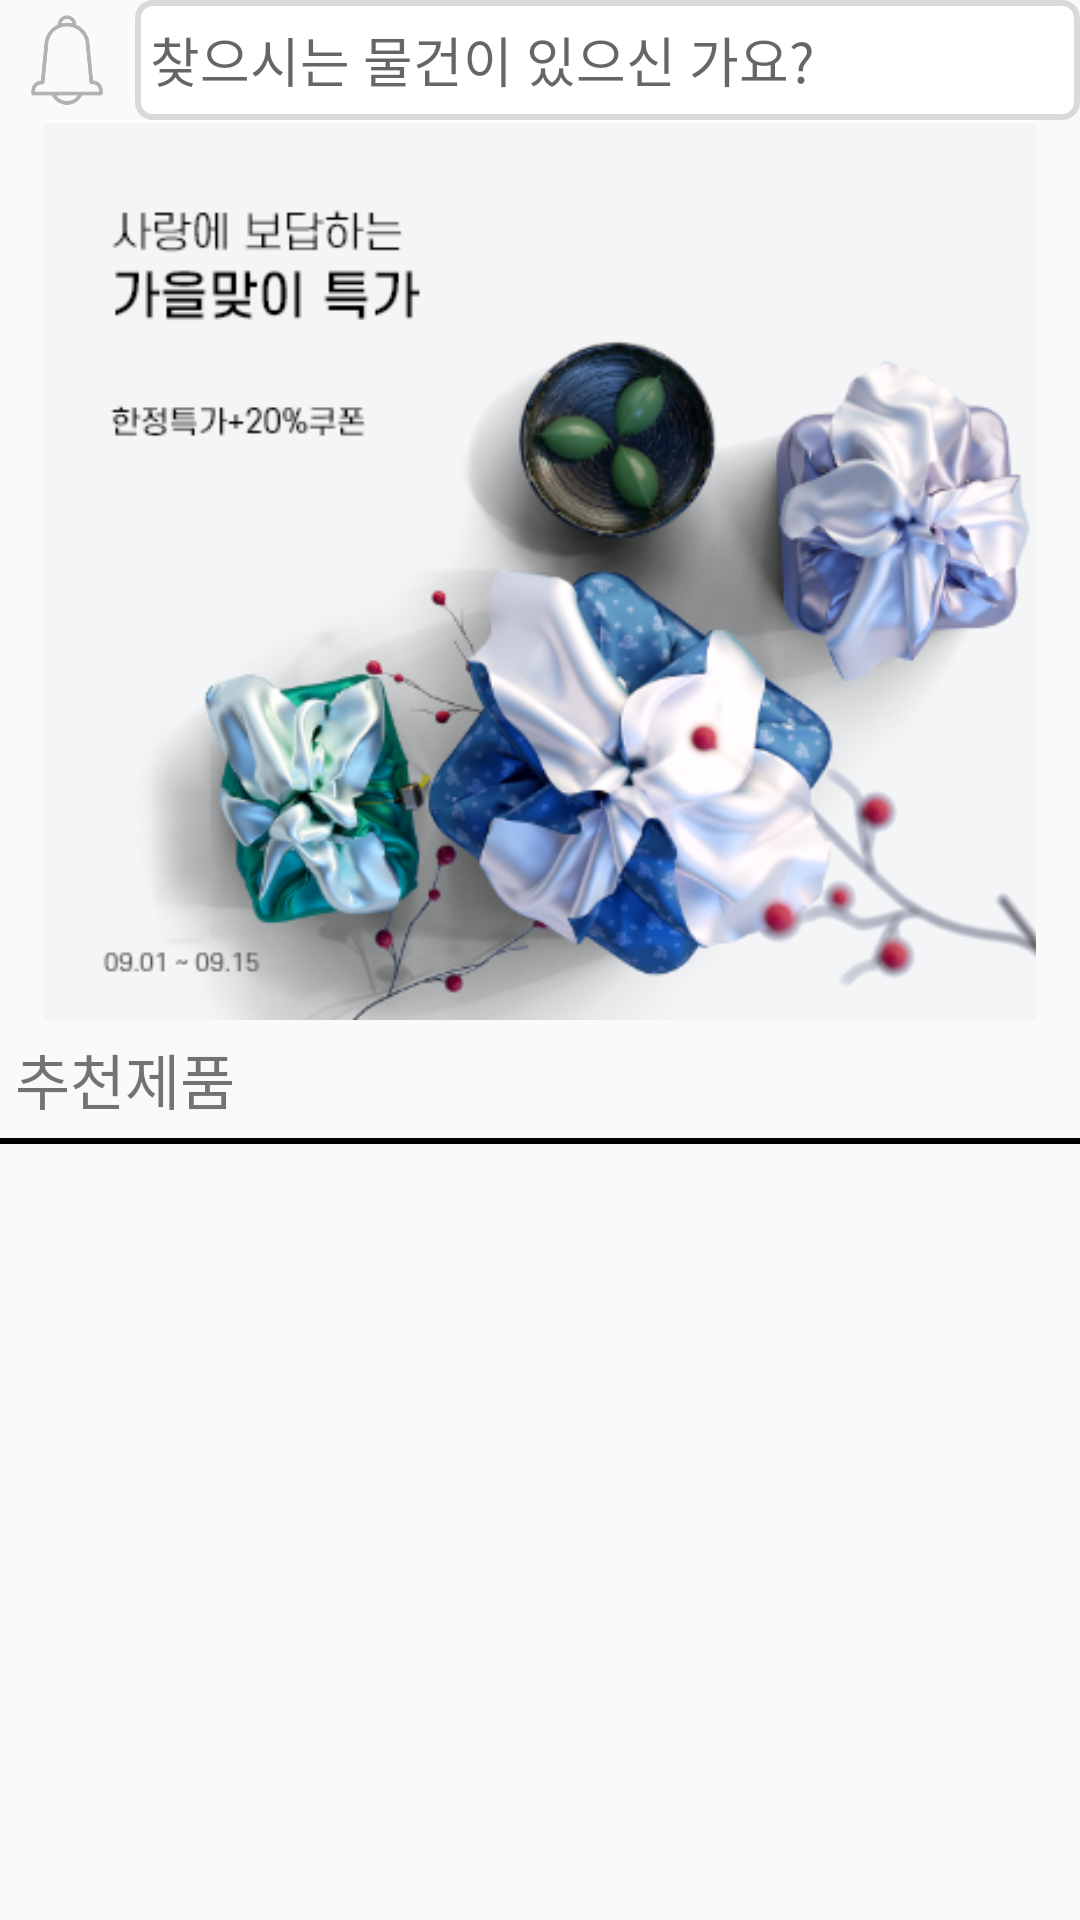

Named icons in this screenshot (1080×1920) and their centers, (x,y):
alert: (67,60)
